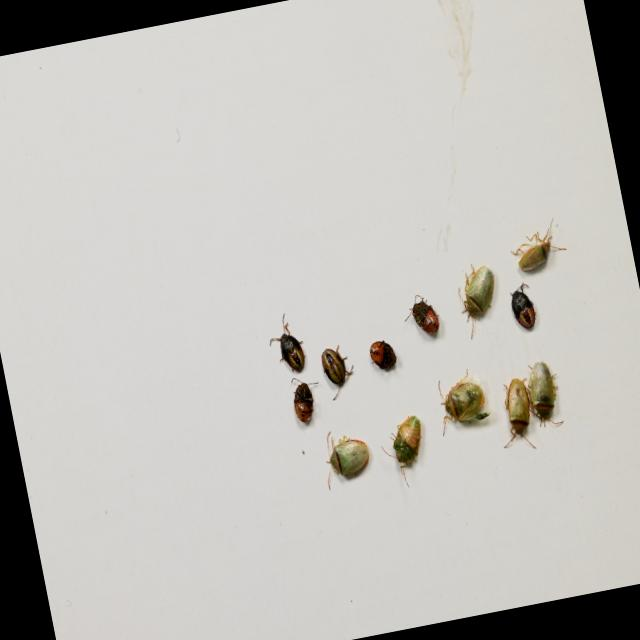stinkbug: (375, 411, 434, 492), (429, 367, 495, 436), (452, 259, 506, 341), (491, 374, 544, 456), (316, 421, 375, 490), (507, 214, 570, 274), (520, 354, 566, 432)
